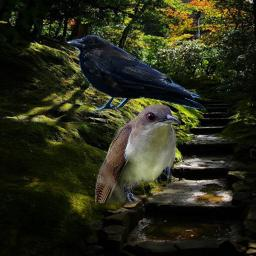Crow: (65, 35, 206, 113)
Cuckoo: (95, 104, 181, 203)
